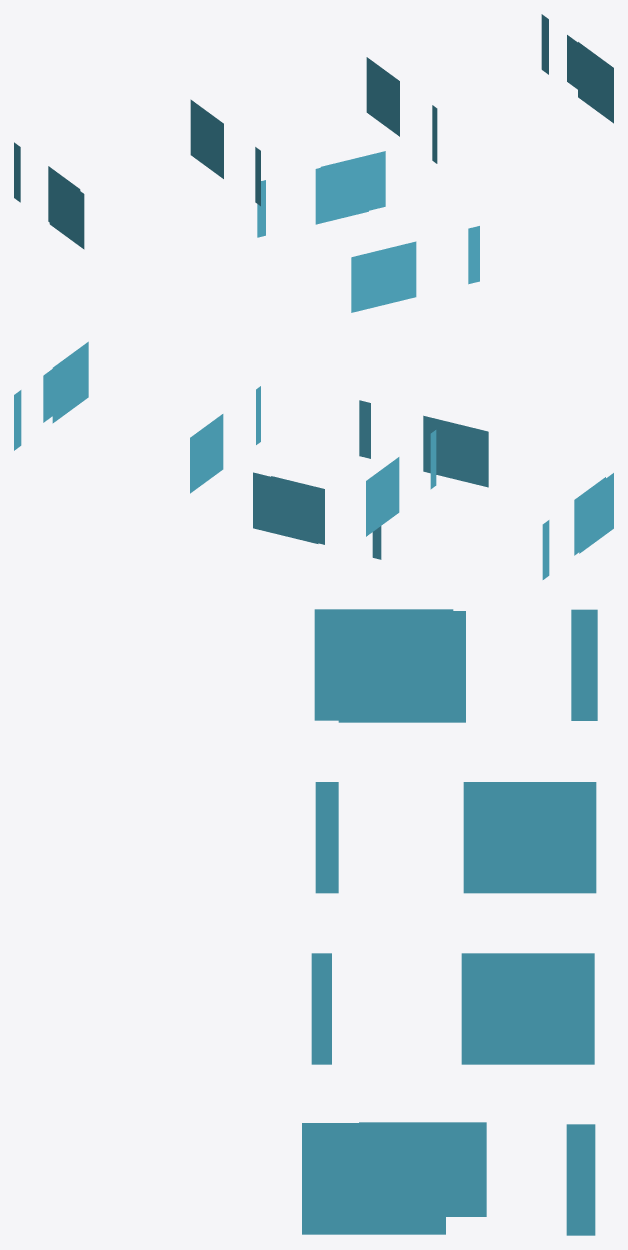
The model's file is VentanasCasa.obj.
The picture shows the model from 3 angles, top to bottom: view 1: azimuth 30°, elevation 25°; view 2: azimuth 150°, elevation 25°; view 3: azimuth 270°, elevation 25°; orthographic projection. The views are drawn at different scales.
Parts seen in each view (by area): view 1: pasted__pasted__pasted__pPlane1 pasted__pasted__group9 pasted__g, pPlane1, pasted__pasted__pPlane1 pasted__group9 group10, pasted__pasted__pasted__pasted__pPlane1 pasted__pasted__pasted__, pasted__pasted__pPlane1 pasted__group9 group12, pasted__pasted__pasted__pasted__pasted__pPlane1 pasted__pasted__, pasted__pPlane1 group9, pasted__pPlane1 group8, pasted__pasted__pasted__pasted__pasted__pasted__pPlane1 pasted__, pasted__pasted__pPlane1 pasted__group9 group11; view 2: pasted__pasted__pasted__pPlane1 pasted__pasted__group9 pasted__g, pasted__pPlane1 group9, pPlane1, pasted__pasted__pasted__pasted__pPlane1 pasted__pasted__pasted__, pasted__pasted__pPlane1 pasted__group9 group12, pasted__pasted__pasted__pasted__pasted__pPlane1 pasted__pasted__, pasted__pPlane1 group8, pasted__pasted__pPlane1 pasted__group9 group10, pasted__pasted__pasted__pasted__pasted__pasted__pPlane1 pasted__; view 3: pasted__pasted__pasted__pasted__pPlane1 pasted__pasted__pasted__, pasted__pasted__pasted__pPlane1 pasted__pasted__group9 pasted__g, pasted__pasted__pPlane1 pasted__group9 group12, pasted__pasted__pasted__pasted__pasted__pPlane1 pasted__pasted__, pasted__pasted__pasted__pasted__pasted__pasted__pPlane1 pasted__.
Boxes of the visible parts, x1,y1,x2,y2 form: pasted__pasted__pasted__pPlane1 pasted__pasted__group9 pasted__g: (49,57,399,249); pPlane1: (351,241,416,312); pasted__pasted__pPlane1 pasted__group9 group10: (315,156,368,224); pasted__pasted__pasted__pasted__pPlane1 pasted__pasted__pasted__: (14,42,613,222); pasted__pasted__pPlane1 pasted__group9 group12: (190,99,223,178); pasted__pasted__pasted__pasted__pasted__pPlane1 pasted__pasted__: (567,35,598,104); pasted__pPlane1 group9: (320,151,385,210); pasted__pPlane1 group8: (468,226,479,284); pasted__pasted__pasted__pasted__pasted__pasted__pPlane1 pasted__: (541,14,548,74); pasted__pasted__pPlane1 pasted__group9 group11: (257,180,265,237); pasted__pasted__pasted__pPlane1 pasted__pasted__group9 pasted__g: (190,414,613,553); pasted__pPlane1 group9: (253,472,318,543); pPlane1: (423,415,488,487); pasted__pasted__pasted__pasted__pPlane1 pasted__pasted__pasted__: (52,341,605,579); pasted__pasted__pPlane1 pasted__group9 group12: (366,457,399,536); pasted__pasted__pasted__pasted__pasted__pPlane1 pasted__pasted__: (43,352,75,422); pasted__pPlane1 group8: (359,400,370,458); pasted__pasted__pPlane1 pasted__group9 group10: (271,476,324,544); pasted__pasted__pasted__pasted__pasted__pasted__pPlane1 pasted__: (14,390,21,450); pasted__pasted__pasted__pasted__pPlane1 pasted__pasted__pasted__: (302,609,597,1234); pasted__pasted__pasted__pPlane1 pasted__pasted__group9 pasted__g: (314,609,594,1064); pasted__pasted__pPlane1 pasted__group9 group12: (463,782,596,893); pasted__pasted__pasted__pasted__pasted__pPlane1 pasted__pasted__: (359,1122,486,1216); pasted__pasted__pasted__pasted__pasted__pasted__pPlane1 pasted__: (566,1124,595,1235).
Bounding box in the file's own units: 23.43 × 4.87 × 10.91.
Materials: 15 (15 with a texture image).
